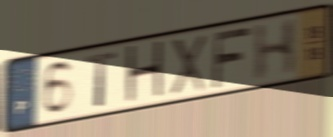6: (40, 58, 75, 118)
F: (211, 24, 253, 91)
H: (252, 15, 300, 85), (124, 38, 166, 108)
T: (84, 49, 119, 110)
X: (169, 32, 208, 98)
